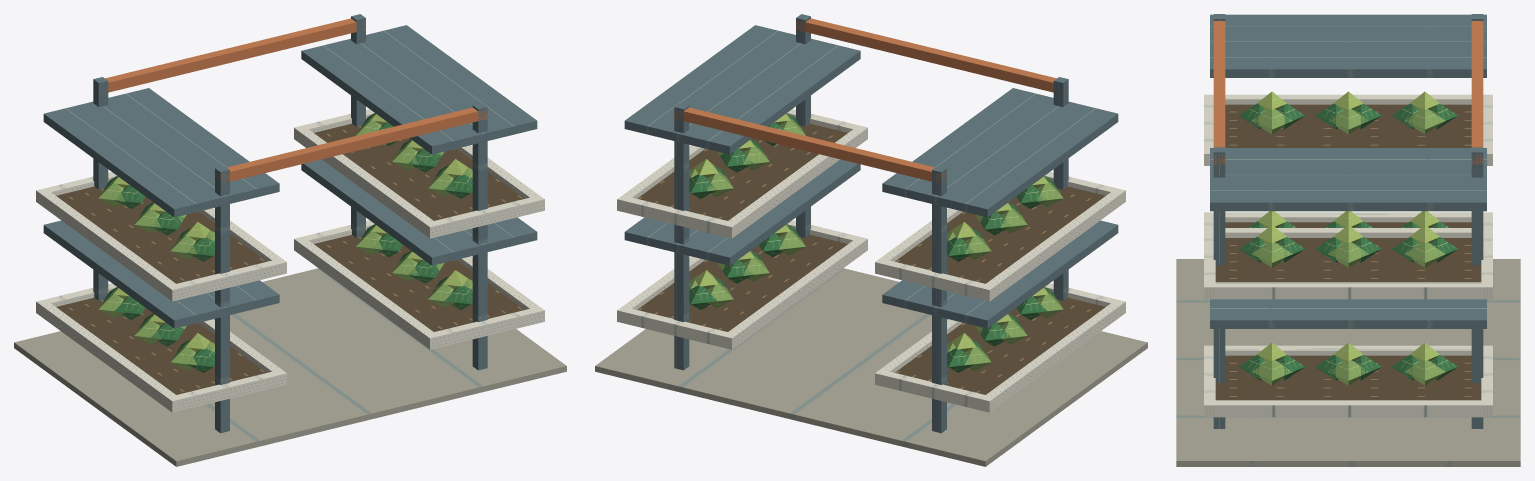
File: TorusAgri_GrowingBedA.obj
3 renders of one model, left to right at view 1: azimuth 30°, elevation 25°; view 2: azimuth 150°, elevation 25°; view 3: azimuth 270°, elevation 25°, orthographic. The views are drawn at different scales.
Visible parts, largest first — view 1: TorusAgri_GrowingBedA; view 2: TorusAgri_GrowingBedA; view 3: TorusAgri_GrowingBedA.
Part boxes in pixels (x1,y1,x2,y2): TorusAgri_GrowingBedA: (14,14,566,466); TorusAgri_GrowingBedA: (595,14,1147,466); TorusAgri_GrowingBedA: (1176,14,1520,466).
Size of the model in its own units: 1.25 by 0.8163 by 0.9.
Materials: 1 (1 with a texture image).
